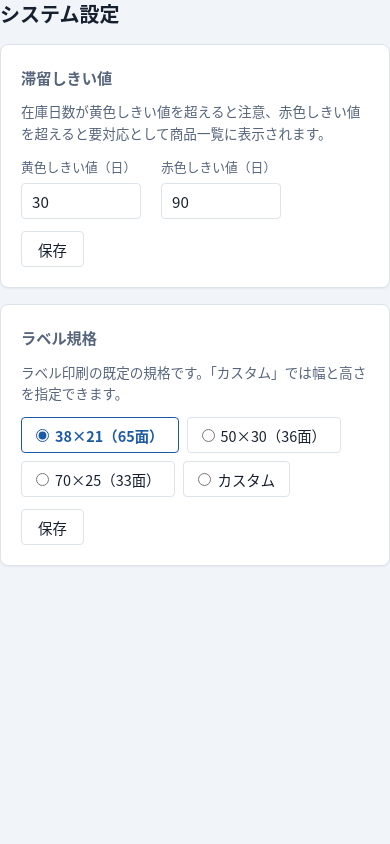
Test: slow-move thresholds › rejects warn >= alarm (yellow must stay below red) without any PUT
The image size is (390, 844).
Step 1. Replace the text in the number field with class "settings-input" showing "黄色しきい値（日）" with "100" → [81, 201], box top-left (21, 183), bottom-right (141, 219)
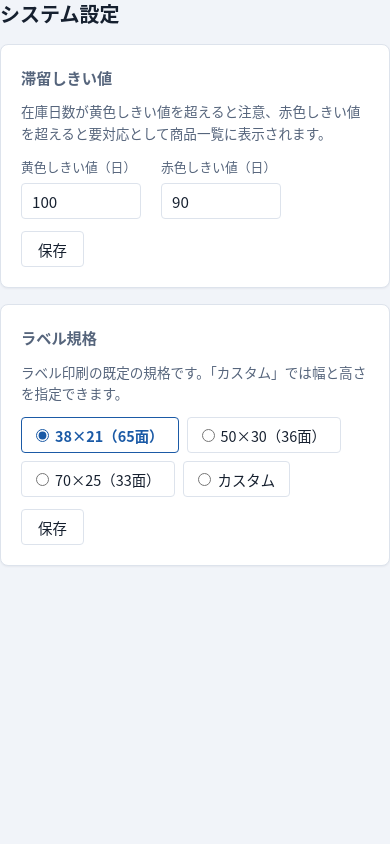
Step 2. Click the button with class "settings-save" below "黄色しきい値（日）" → [52, 249], box top-left (21, 231), bottom-right (84, 267)
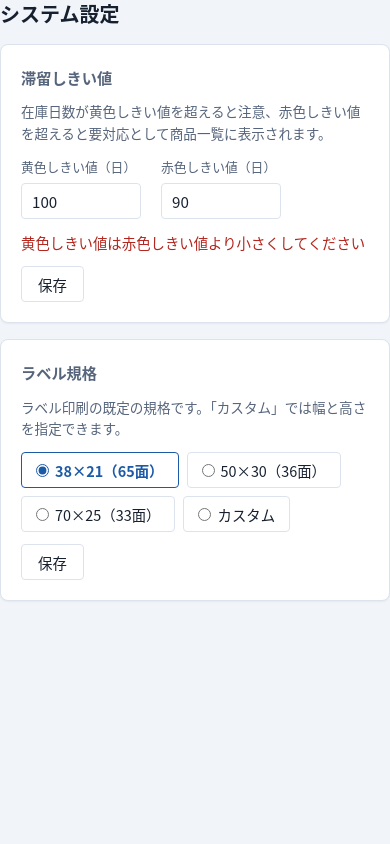
Check: the text with class "settings-error" reads "黄色しきい値は赤色しきい値より小さくしてください", box top-left (21, 232), bottom-right (365, 253)
